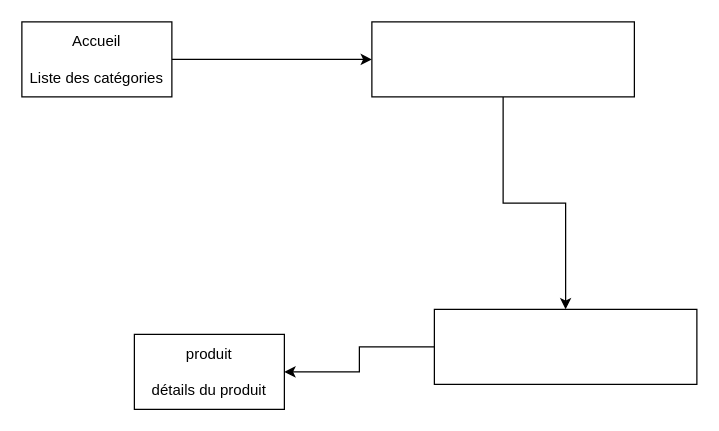
The diagram is 719 pixels wide and 431 high, and some of its shapes have lost their labels. Here are the shapes that lost their labels. From the top down, the box of each, then its label:
(371, 21, 634, 97): categorie Détails de la catégorie Liste des sous catégories
(433, 308, 697, 384): produits détails de la sousCatégorie Liste des produits
